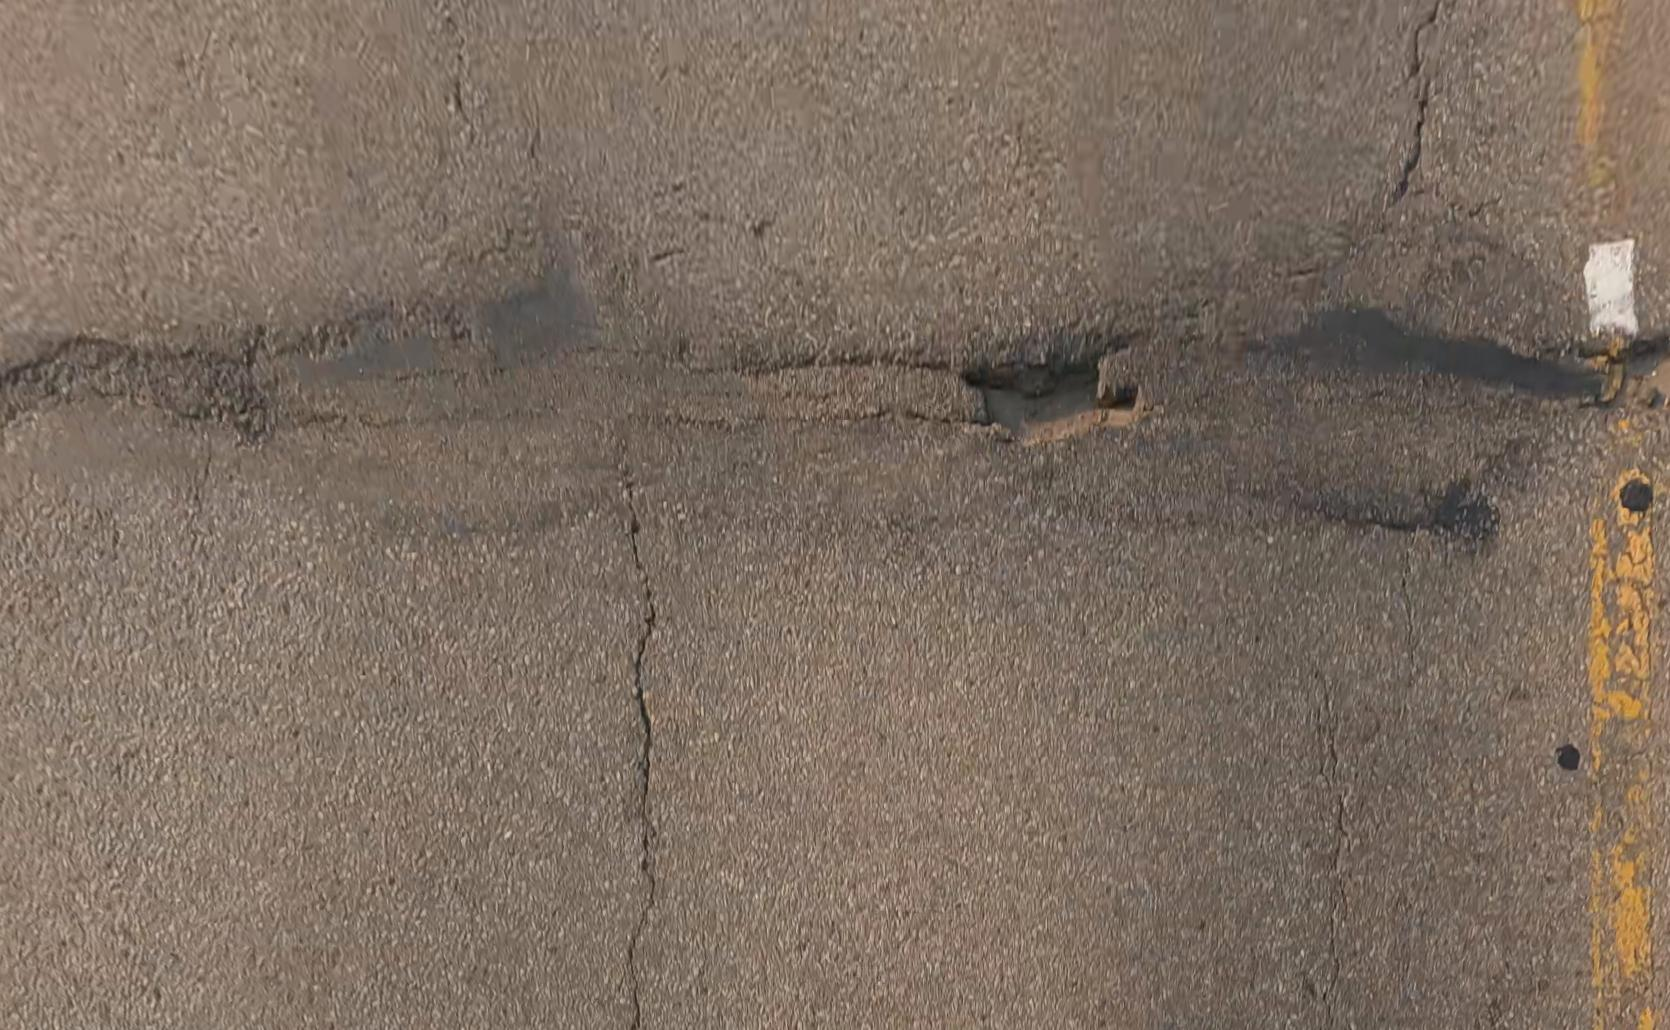pothole: (954, 345, 1150, 460)
pothole_patch_good: (1241, 309, 1606, 403)
